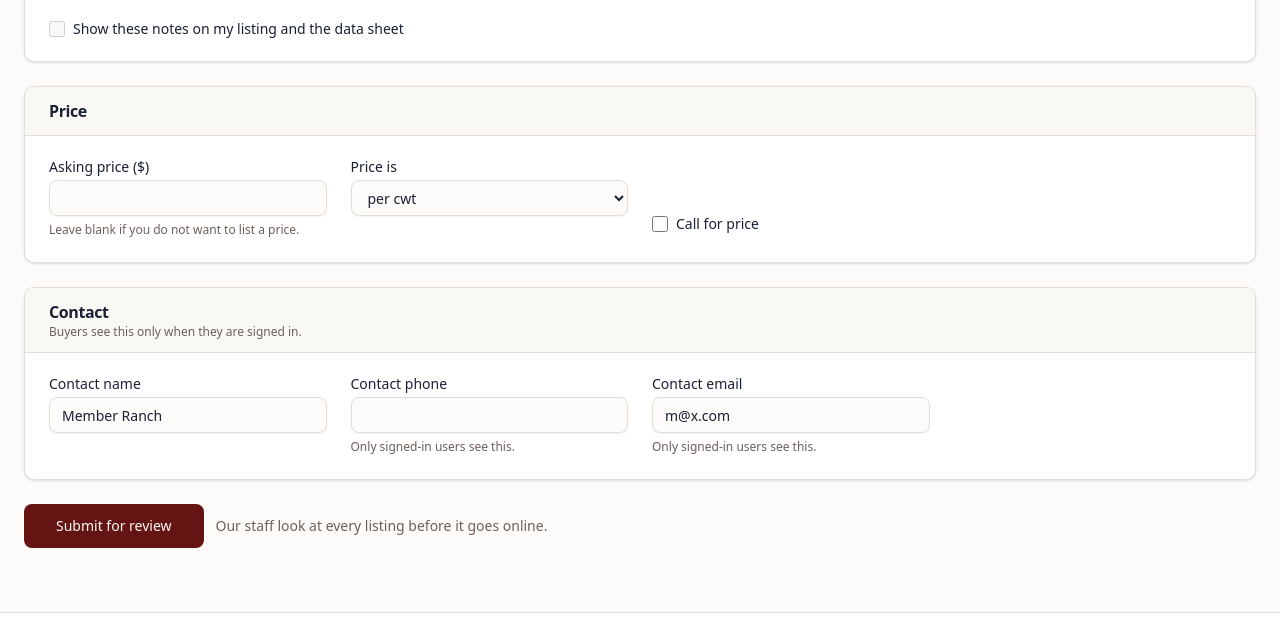
feeder listing form › tells the person when the 20 a day limit is hit
(page scrolled)
Click the button "Submit for review" at (114, 526), box [24,504,204,548]
(page scrolled)
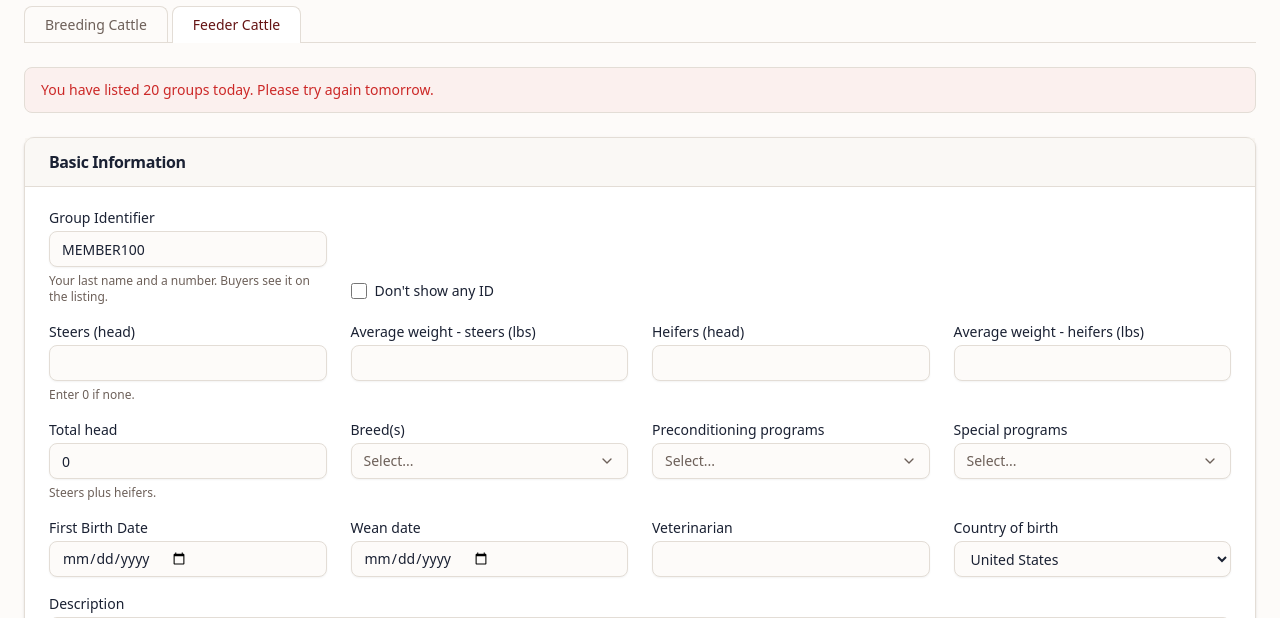
Check: the text "You have listed 20 groups today. Please try again tomorrow." is shown, box [24,67,1256,113]
